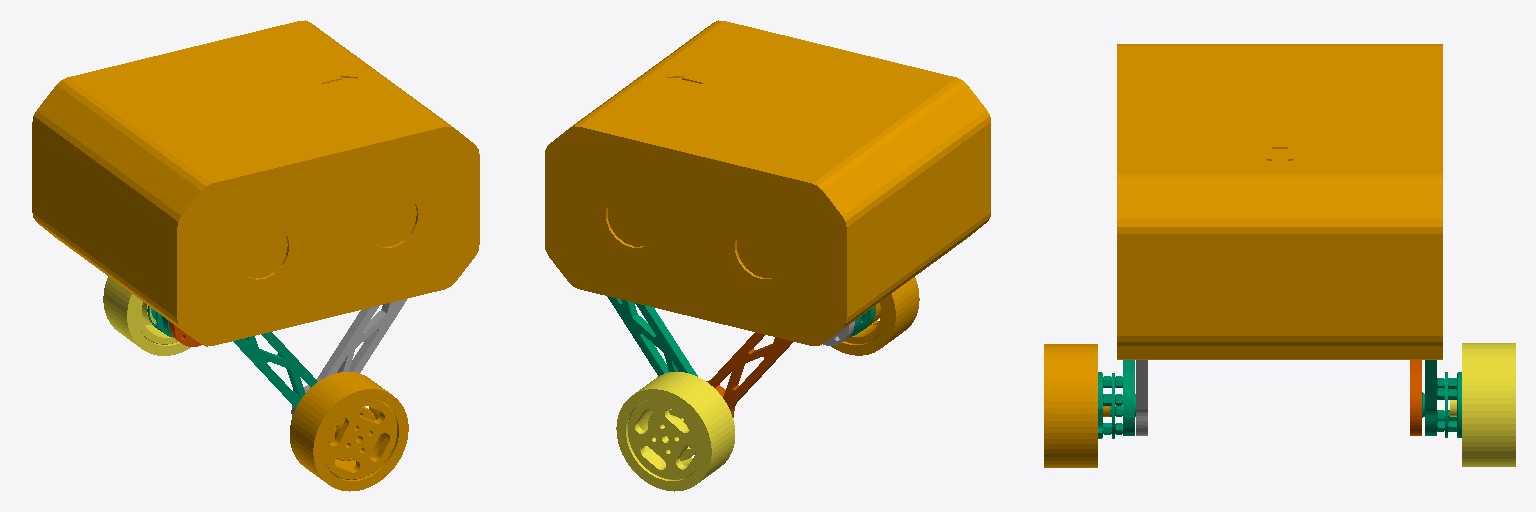
robot.urdf — wheelleg_cad:
<?xml version='1.0' encoding='utf-8'?>
<robot name="wheelleg_cad">
  <link name="base_link">
    <inertial>
      <origin xyz="-0.00350378936827 9.95467101582e-17 -0.00946859220219" rpy="0 0 0" />
      <mass value="0.931690454111" />
      <inertia ixx="0.00206524699603" ixy="6.41061273484e-05" ixz="-1.93968339442e-05" iyy="0.0011420746332" iyz="1.19093750189e-06" izz="0.00281081257117" />
    </inertial>
    <visual name="base_link_visual">
      <geometry>
        <mesh filename="../meshes/base_link_visual.obj" scale="1 1 1" />
      </geometry>
    </visual>
    <collision name="base_link_shape1">
      <geometry>
        <mesh filename="../meshes/base_link_collision_1.obj" scale="1 1 1" />
      </geometry>
    </collision>
    <collision name="base_link_shape2">
      <geometry>
        <mesh filename="../meshes/base_link_collision_2.obj" scale="1 1 1" />
      </geometry>
    </collision>
    <collision name="base_link_shape3">
      <geometry>
        <mesh filename="../meshes/base_link_collision_3.obj" scale="1 1 1" />
      </geometry>
    </collision>
    <collision name="base_link_shape4">
      <geometry>
        <mesh filename="../meshes/base_link_collision_4.obj" scale="1 1 1" />
      </geometry>
    </collision>
    <collision name="base_link_shape5">
      <geometry>
        <mesh filename="../meshes/base_link_collision_5.obj" scale="1 1 1" />
      </geometry>
    </collision>
    <collision name="base_link_shape6">
      <geometry>
        <mesh filename="../meshes/base_link_collision_6.obj" scale="1 1 1" />
      </geometry>
    </collision>
  </link>
  <link name="L_F_Link1">
    <inertial>
      <origin xyz="0.00919928261655 0.00321894444358 2.93927930194e-08" rpy="0 0 0" />
      <mass value="0.0498273864722" />
      <inertia ixx="2.32579027662e-05" ixy="2.04199917288e-06" ixz="1.68214230749e-11" iyy="1.17459754221e-05" iyz="-5.94928214732e-12" izz="1.81235968108e-05" />
    </inertial>
    <visual name="L_F_Link1_visual">
      <geometry>
        <mesh filename="../meshes/L_F_Link1_visual.obj" scale="1 1 1" />
      </geometry>
    </visual>
    <collision name="L_F_Link1_shape1">
      <geometry>
        <mesh filename="../meshes/L_F_Link1_collision_1.obj" scale="1 1 1" />
      </geometry>
    </collision>
  </link>
  <link name="L_F_Link2">
    <inertial>
      <origin xyz="-0.017629997383 -0.0109938434287 0.0945528634323" rpy="0 0 0" />
      <mass value="0.0793523200109" />
      <inertia ixx="6.69098880094e-05" ixy="-1.21157657933e-06" ixz="1.06137004401e-05" iyy="6.85908296048e-05" iyz="6.82487814046e-06" izz="1.25035533108e-05" />
    </inertial>
    <visual name="L_F_Link2_visual">
      <geometry>
        <mesh filename="../meshes/L_F_Link2_visual.obj" scale="1 1 1" />
      </geometry>
    </visual>
    <collision name="L_F_Link2_shape1">
      <geometry>
        <mesh filename="../meshes/L_F_Link2_collision_1.obj" scale="1 1 1" />
      </geometry>
    </collision>
  </link>
  <link name="L_lun">
    <inertial>
      <origin xyz="-6.10157604416e-07 9.15068339743e-07 0.0018183207518" rpy="0 0 0" />
      <mass value="0.0660476799891" />
      <inertia ixx="1.89991870854e-05" ixy="-8.08211280518e-11" ixz="-1.94629759588e-10" iyy="1.89990997039e-05" iyz="-4.34545177479e-10" izz="3.05335752049e-05" />
    </inertial>
    <visual name="L_lun_visual">
      <geometry>
        <mesh filename="../meshes/L_lun_visual.obj" scale="1 1 1" />
      </geometry>
    </visual>
    <collision name="L_lun_tread">
      <geometry>
        <mesh filename="../meshes/L_lun_collision.obj" scale="1 1 1" />
      </geometry>
    </collision>
  </link>
  <link name="L_H_Link1">
    <inertial>
      <origin xyz="-0.00227612150752 -0.00227612061962 0.00933216177648" rpy="0 0 0" />
      <mass value="0.0498273864722" />
      <inertia ixx="1.47789883455e-05" ixy="-3.18881587556e-06" ixz="-1.22488635878e-06" iyy="1.47789880778e-05" iyz="-1.22488587811e-06" izz="2.32579130947e-05" />
    </inertial>
    <visual name="L_H_Link1_visual">
      <geometry>
        <mesh filename="../meshes/L_H_Link1_visual.obj" scale="1 1 1" />
      </geometry>
    </visual>
    <collision name="L_H_Link1_shape1">
      <geometry>
        <mesh filename="../meshes/L_H_Link1_collision_1.obj" scale="1 1 1" />
      </geometry>
    </collision>
  </link>
  <link name="L_H_Link2">
    <inertial>
      <origin xyz="0.0372067808382 -0.0467762010639 0.00260433305424" rpy="0 0 0" />
      <mass value="0.016" />
      <inertia ixx="1.54934711308e-05" ixy="1.16209453633e-05" ixz="5.22990248913e-08" iyy="1.01078652073e-05" iyz="-6.57675945123e-08" izz="2.54804242347e-05" />
    </inertial>
    <visual name="L_H_Link2_visual">
      <geometry>
        <mesh filename="../meshes/L_H_Link2_visual.obj" scale="1 1 1" />
      </geometry>
    </visual>
    <collision name="L_H_Link2_shape1">
      <geometry>
        <mesh filename="../meshes/L_H_Link2_collision_1.obj" scale="1 1 1" />
      </geometry>
    </collision>
  </link>
  <link name="R_F_Link1">
    <inertial>
      <origin xyz="-0.00165427571109 -0.00165417504962 0.00925851295114" rpy="0 0 0" />
      <mass value="0.0498273864722" />
      <inertia ixx="1.37848940467e-05" ixy="-2.03834055068e-06" ixz="-9.81937578988e-07" iyy="1.37848726623e-05" iyz="-9.81880090294e-07" izz="2.1112960152e-05" />
    </inertial>
    <visual name="R_F_Link1_visual">
      <geometry>
        <mesh filename="../meshes/R_F_Link1_visual.obj" scale="1 1 1" />
      </geometry>
    </visual>
    <collision name="R_F_Link1_shape1">
      <geometry>
        <mesh filename="../meshes/R_F_Link1_collision_1.obj" scale="1 1 1" />
      </geometry>
    </collision>
  </link>
  <link name="R_F_Link2">
    <inertial>
      <origin xyz="0.0372067773055 -0.0467761796153 0.00260476872427" rpy="0 0 0" />
      <mass value="0.016" />
      <inertia ixx="1.54934628824e-05" ixy="1.16209477607e-05" ixz="5.21854921699e-08" iyy="1.01078722321e-05" iyz="-6.56287383293e-08" izz="2.54804254583e-05" />
    </inertial>
    <visual name="R_F_Link2_visual">
      <geometry>
        <mesh filename="../meshes/R_F_Link2_visual.obj" scale="1 1 1" />
      </geometry>
    </visual>
    <collision name="R_F_Link2_shape1">
      <geometry>
        <mesh filename="../meshes/R_F_Link2_collision_1.obj" scale="1 1 1" />
      </geometry>
    </collision>
  </link>
  <link name="R_lun">
    <inertial>
      <origin xyz="-6.34633085961e-07 9.19729244679e-07 0.00181832074107" rpy="0 0 0" />
      <mass value="0.0660476799891" />
      <inertia ixx="1.89991870938e-05" ixy="-8.08156189354e-11" ixz="-3.49848126052e-10" iyy="1.89990997007e-05" iyz="-4.04956413334e-10" izz="3.05335751998e-05" />
    </inertial>
    <visual name="R_lun_visual">
      <geometry>
        <mesh filename="../meshes/R_lun_visual.obj" scale="1 1 1" />
      </geometry>
    </visual>
    <collision name="R_lun_tread">
      <geometry>
        <mesh filename="../meshes/R_lun_collision.obj" scale="1 1 1" />
      </geometry>
    </collision>
  </link>
  <link name="R_H_Link1">
    <inertial>
      <origin xyz="0.00919928261658 -0.00321894448478 -5.92179947076e-09" rpy="0 0 0" />
      <mass value="0.0498273864722" />
      <inertia ixx="2.32579027531e-05" ixy="-2.04199918344e-06" ixz="-1.96880442182e-12" iyy="1.17459754208e-05" iyz="4.03506197439e-11" izz="1.81235967989e-05" />
    </inertial>
    <visual name="R_H_Link1_visual">
      <geometry>
        <mesh filename="../meshes/R_H_Link1_visual.obj" scale="1 1 1" />
      </geometry>
    </visual>
    <collision name="R_H_Link1_shape1">
      <geometry>
        <mesh filename="../meshes/R_H_Link1_collision_1.obj" scale="1 1 1" />
      </geometry>
    </collision>
  </link>
  <link name="R_H_Link2">
    <inertial>
      <origin xyz="-0.0601710877457 -0.0759981538915 -0.0175352774947" rpy="0 0 0" />
      <mass value="0.0793523200109" />
      <inertia ixx="3.89080554585e-05" ixy="-2.11110055037e-05" ixz="-5.73260208703e-06" iyy="2.85206476248e-05" iyz="-7.21222506275e-06" izz="5.28152033234e-05" />
    </inertial>
    <visual name="R_H_Link2_visual">
      <geometry>
        <mesh filename="../meshes/R_H_Link2_visual.obj" scale="1 1 1" />
      </geometry>
    </visual>
    <collision name="R_H_Link2_shape1">
      <geometry>
        <mesh filename="../meshes/R_H_Link2_collision_1.obj" scale="1 1 1" />
      </geometry>
    </collision>
  </link>
  <joint name="L_F_Joint1" type="revolute">
    <origin xyz="0.0296487766608 0.0695861569723 9.74512170011e-06" rpy="-0.785399920451 -5.34110311534e-09 -1.57079997414" />
    <parent link="base_link" />
    <child link="L_F_Link1" />
    <axis xyz="0.999999999993 2.58283466131e-06 2.57529026393e-06" />
    <limit effort="0.68" velocity="30" lower="-0.282999980999" upper="1.2429999456" />
    <dynamics damping="0" friction="0" />
  </joint>
  <joint name="L_F_Joint2" type="revolute">
    <origin xyz="-0.00700012914191 0.0499999819199 6.98254799363e-08" rpy="-3.14158541361 0 0" />
    <parent link="L_F_Link1" />
    <child link="L_F_Link2" />
    <axis xyz="0.999999999993 -2.5828533063e-06 -2.57527156419e-06" />
    <limit effort="0.0" velocity="30" lower="-1.23377382348" upper="0.569850027408" />
    <dynamics damping="0" friction="0" />
  </joint>
  <joint name="L_lun_Joint" type="continuous">
    <origin xyz="-0.0327859190469 -0.0118999736874 0.104323565063" rpy="-1.57079269233 0.785400030872 -1.57079269233" />
    <parent link="L_F_Link2" />
    <child link="L_lun" />
    <axis xyz="6.21729503913e-06 1.05913741034e-06 0.99999999998" />
    <limit effort="0.1" velocity="45" />
    <dynamics damping="0" friction="0" />
  </joint>
  <joint name="L_H_Joint1" type="revolute">
    <origin xyz="-0.0303706292214 0.0755861569723 -9.76578927509e-06" rpy="1.57079632679 0 8.74227797931e-08" />
    <parent link="base_link" />
    <child link="L_H_Link1" />
    <axis xyz="-8.74227797415e-08 -4.89663865011e-12 1" />
    <limit effort="0.68" velocity="30" lower="-1.2429999456" upper="0.282999980999" />
    <dynamics damping="0" friction="0" />
  </joint>
  <joint name="L_H_Joint2" type="revolute">
    <origin xyz="-0.0353553392342 -0.0353553390593 0.00199999690896" rpy="0 0 0" />
    <parent link="L_H_Link1" />
    <child link="L_H_Link2" />
    <axis xyz="-8.74227797415e-08 -4.89663865011e-12 1" />
    <limit effort="0.0" velocity="30" lower="-0.569850027408" upper="1.23377382348" />
    <dynamics damping="0" friction="0" />
  </joint>
  <joint name="R_F_Joint1" type="revolute">
    <origin xyz="0.0303706817358 -0.0755861569723 -9.72445412486e-06" rpy="1.57079995142 -2.58681964738e-13 -3.14158541361" />
    <parent link="base_link" />
    <child link="R_F_Link1" />
    <axis xyz="-7.23997979308e-06 3.62462510311e-06 0.999999999967" />
    <limit effort="0.68" velocity="30" lower="-1.2429999456" upper="0.282999980999" />
    <dynamics damping="0" friction="0" />
  </joint>
  <joint name="R_F_Joint2" type="revolute">
    <origin xyz="-0.0353553462984 -0.0353553354354 0.000999872177875" rpy="0 0 0" />
    <parent link="R_F_Link1" />
    <child link="R_F_Link2" />
    <axis xyz="-7.23997979308e-06 3.62462510311e-06 0.999999999967" />
    <limit effort="0.0" velocity="30" lower="-0.569850027408" upper="1.23377382348" />
    <dynamics damping="0" friction="0" />
  </joint>
  <joint name="R_lun_Joint" type="continuous">
    <origin xyz="-0.0653536565342 -0.082182071924 -0.0327862581108" rpy="9.78224084075e-06 1.34357316981e-05 -7.26264647656e-06" />
    <parent link="R_H_Link2" />
    <child link="R_lun" />
    <axis xyz="-7.23997979308e-06 3.62462510311e-06 0.999999999967" />
    <limit effort="0.1" velocity="45" />
    <dynamics damping="0" friction="0" />
  </joint>
  <joint name="R_H_Joint1" type="revolute">
    <origin xyz="-0.0296488291752 -0.0695861569723 9.74512169984e-06" rpy="2.35619999557 -5.32785904284e-09 1.57079267945" />
    <parent link="base_link" />
    <child link="R_H_Link1" />
    <axis xyz="0.999999999993 -2.58284385304e-06 -2.57528072506e-06" />
    <limit effort="0.68" velocity="30" lower="-0.282999980999" upper="1.2429999456" />
    <dynamics damping="0" friction="0" />
  </joint>
  <joint name="R_H_Joint2" type="revolute">
    <origin xyz="-0.00700012914144 -0.0499999819192 2.93296013636e-07" rpy="-1.57079993073 0.785399920746 -1.57079272286" />
    <parent link="R_H_Link1" />
    <child link="R_H_Link2" />
    <axis xyz="6.19570718394e-06 -6.15766073472e-06 0.999999999962" />
    <limit effort="0.0" velocity="30" lower="-1.23377382348" upper="0.569850027408" />
    <dynamics damping="0" friction="0" />
  </joint>
</robot>

--- Render facts (derived) ---
The picture shows the robot from 3 angles, left to right: view 1: azimuth 30°, elevation 25°; view 2: azimuth 150°, elevation 25°; view 3: azimuth 270°, elevation 25°; orthographic projection.
Model wheelleg_cad with 11 links and 10 joints (8 revolute, 2 continuous), rooted at base_link, posed every joint at zero.
Visible links, largest first — view 1: base_link, R_lun, L_lun, R_F_Link2, R_H_Link2; view 2: base_link, L_lun, R_lun, L_F_Link2, L_H_Link2; view 3: base_link, L_lun, R_lun, L_F_Link2, R_H_Link2, L_H_Link2, R_F_Link2.
Boxes of the visible links, <box> form: base_link: <box>32,20,479,346</box>; R_lun: <box>290,372,408,491</box>; L_lun: <box>103,276,190,355</box>; R_F_Link2: <box>291,299,406,416</box>; R_H_Link2: <box>233,332,360,414</box>; base_link: <box>545,20,990,345</box>; L_lun: <box>616,372,734,491</box>; R_lun: <box>831,277,919,355</box>; L_F_Link2: <box>607,296,697,447</box>; L_H_Link2: <box>706,332,792,417</box>; base_link: <box>1117,44,1442,359</box>; L_lun: <box>1450,343,1515,466</box>; R_lun: <box>1044,344,1109,467</box>; L_F_Link2: <box>1422,360,1461,437</box>; R_H_Link2: <box>1098,360,1135,438</box>; L_H_Link2: <box>1410,360,1421,435</box>; R_F_Link2: <box>1136,360,1147,435</box>.
Bounding box of the posed robot: 0.206 × 0.2467 × 0.203 m (x, y, z).
Meshes: 11 distinct files referenced, 11 mesh visuals loaded (11 OBJ).
